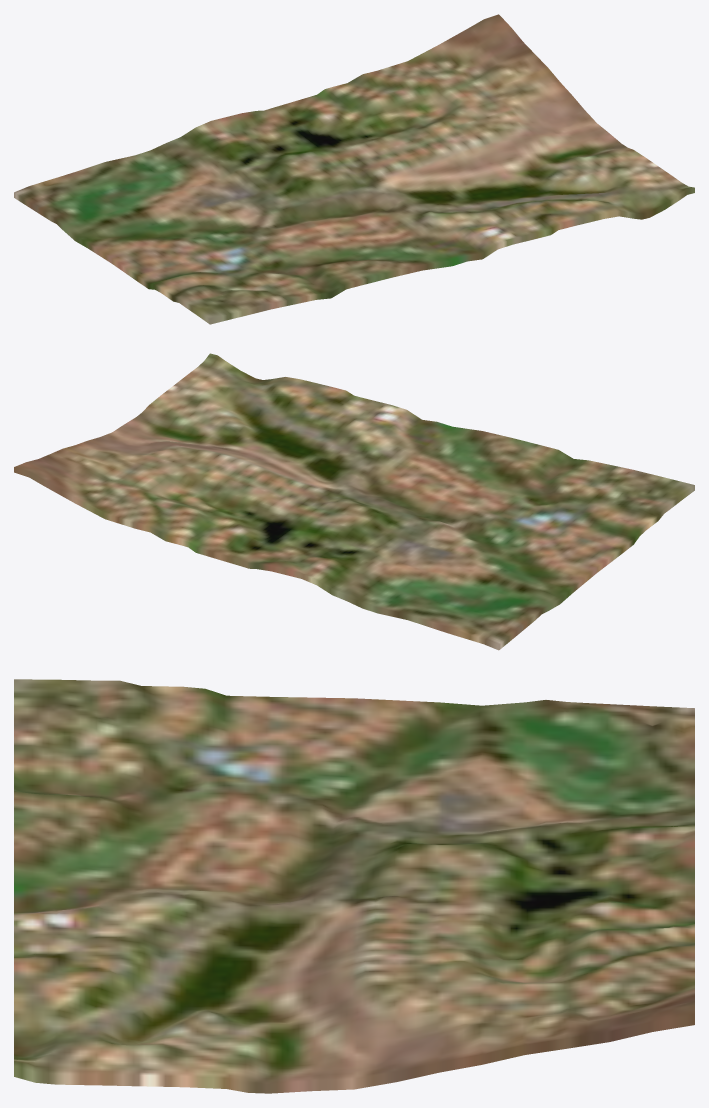
Rendered from terrain_r1_c1_lod2.glb.
The picture shows the model from 3 angles, top to bottom: view 1: azimuth 30°, elevation 25°; view 2: azimuth 150°, elevation 25°; view 3: azimuth 270°, elevation 25°; orthographic projection. The views are drawn at different scales.
Parts seen in each view (by area): view 1: terrain_r1_c1_lod2; view 2: terrain_r1_c1_lod2; view 3: terrain_r1_c1_lod2.
Boxes of the visible parts, box(x1,y1,x2,y2) form: terrain_r1_c1_lod2: box(14, 14, 694, 324); terrain_r1_c1_lod2: box(14, 353, 694, 650); terrain_r1_c1_lod2: box(14, 679, 694, 1093).
Bounding box in the file's own units: 1125 × 144 × 787.
1 material, 1 textured.
